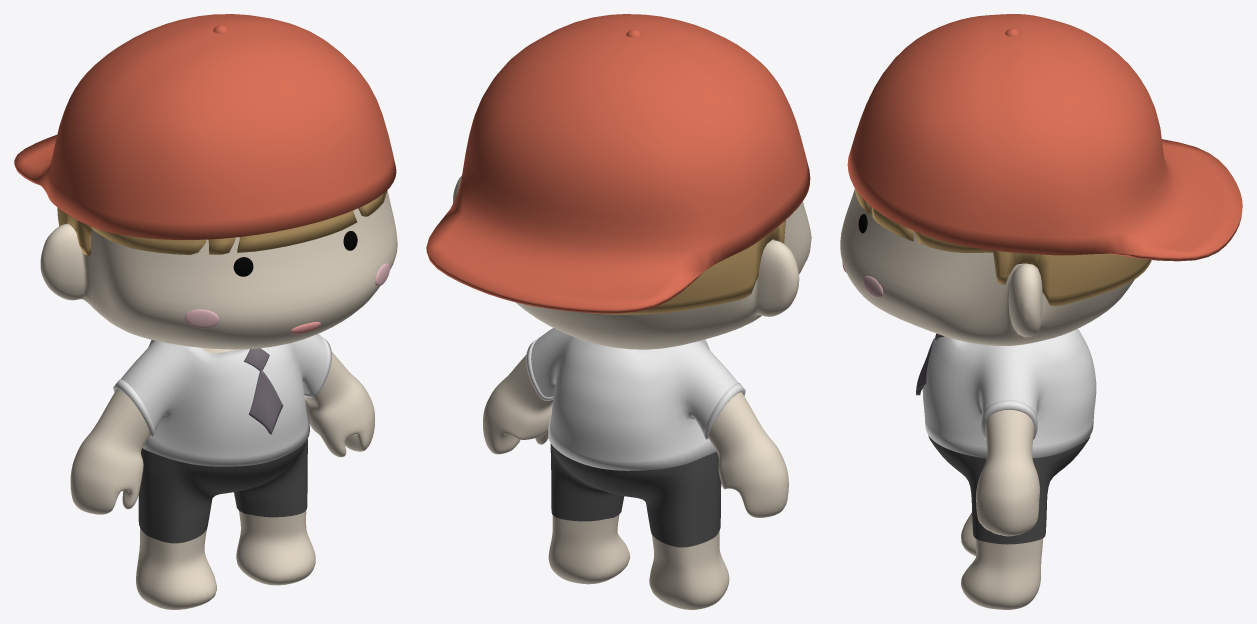
Rendered from NCP_Cap.fbx.
3 renders of one model, left to right at view 1: azimuth 30°, elevation 25°; view 2: azimuth 150°, elevation 25°; view 3: azimuth 270°, elevation 25°, orthographic. The views are drawn at different scales.
Visible parts, largest first — view 1: Cube.031, Cube.026, Cube.022, Cube.024, Cube.023, Cube.025, SurfPatch.001, Cube.032, Sphere.007, Sphere.008; view 2: Cube.031, Cube.024, Cube.022, Cube.026, Cube.023, Cube.025, Cube.032; view 3: Cube.031, Cube.026, Cube.024, Cube.022, Cube.025, Cube.023, Cube.032.
Part boxes in pixels (box(x1,y1,x2,y2)): Cube.031: box(14, 14, 396, 239); Cube.026: box(40, 190, 397, 349); Cube.022: box(70, 347, 374, 609); Cube.024: box(120, 334, 326, 466); Cube.023: box(138, 439, 307, 543); Cube.025: box(57, 191, 386, 256); SurfPatch.001: box(249, 370, 282, 434); Cube.032: box(113, 334, 331, 436); Sphere.007: box(184, 263, 389, 328); Sphere.008: box(233, 231, 357, 276); Cube.031: box(426, 14, 810, 313); Cube.024: box(531, 328, 738, 470); Cube.022: box(483, 355, 788, 609); Cube.026: box(453, 175, 811, 349); Cube.023: box(550, 443, 721, 547); Cube.025: box(590, 204, 800, 314); Cube.032: box(526, 336, 745, 439); Cube.031: box(847, 14, 1242, 261); Cube.026: box(840, 190, 1134, 345); Cube.024: box(922, 328, 1096, 458); Cube.022: box(961, 409, 1043, 609); Cube.025: box(854, 188, 1151, 306); Cube.023: box(928, 435, 1090, 544); Cube.032: box(981, 400, 1037, 440).
Size of the model in its own units: 232 by 361 by 241.
